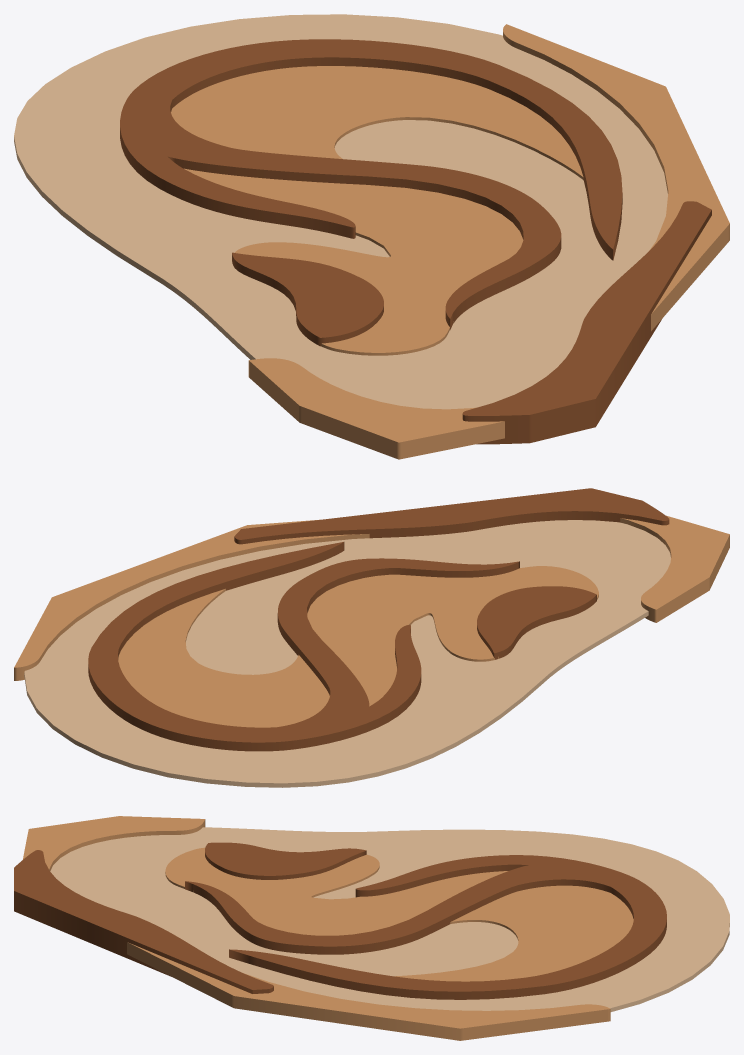
The model's file is emoji_u1f442_1f3fc.glb.
3 views of the same model, one above another, from view 1: azimuth 30°, elevation 25°; view 2: azimuth 150°, elevation 25°; view 3: azimuth 270°, elevation 25° (orthographic). The views are drawn at different scales.
Parts seen in each view (by area): view 1: emoji_u1f442_1f3fc; view 2: emoji_u1f442_1f3fc; view 3: emoji_u1f442_1f3fc.
Part boxes in pixels (x1,y1,x2,y2): emoji_u1f442_1f3fc: (14, 14, 729, 459); emoji_u1f442_1f3fc: (14, 488, 729, 787); emoji_u1f442_1f3fc: (14, 816, 729, 1040).
Bounding box in the file's own units: 0.0222 × 0.001 × 0.0316.
